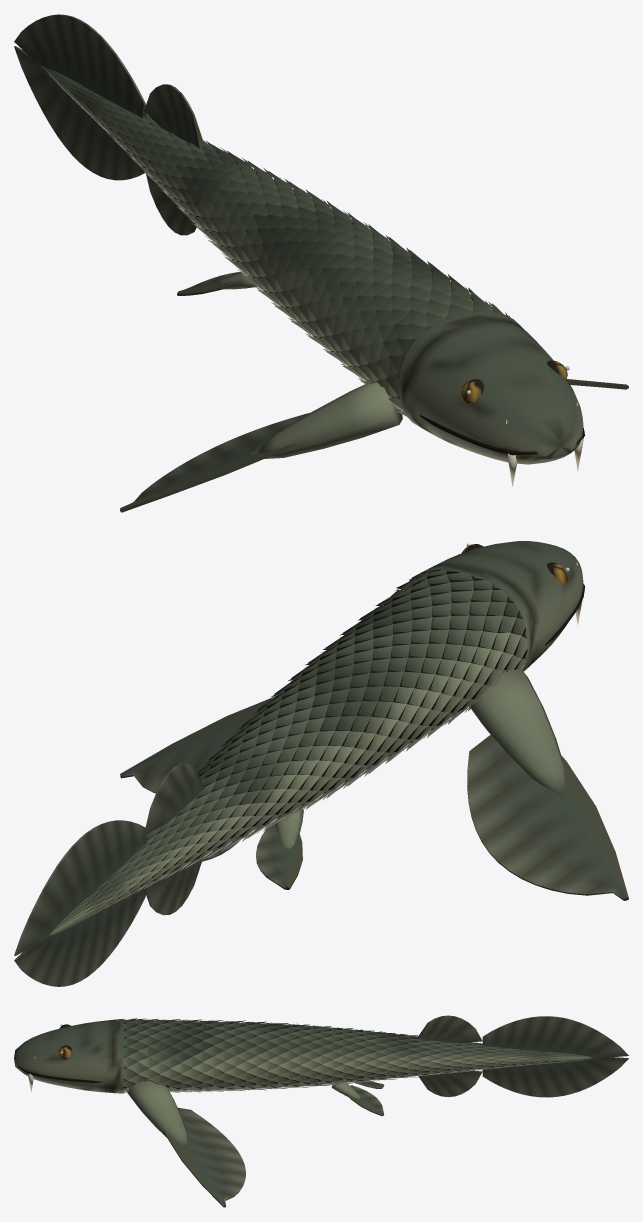
File: Sauripterus.fbx
3 renders of one model, top to bottom at view 1: azimuth 30°, elevation 25°; view 2: azimuth 150°, elevation 25°; view 3: azimuth 270°, elevation 25°, orthographic. The views are drawn at different scales.
Visible parts, largest first — view 1: Sauripterus; view 2: Sauripterus; view 3: Sauripterus.
Part boxes in pixels (<box>): Sauripterus: <box>14,14,628,512</box>; Sauripterus: <box>14,541,628,986</box>; Sauripterus: <box>14,1015,628,1207</box>.
Bounding box in the file's own units: 0.9047 × 0.3695 × 1.68.
